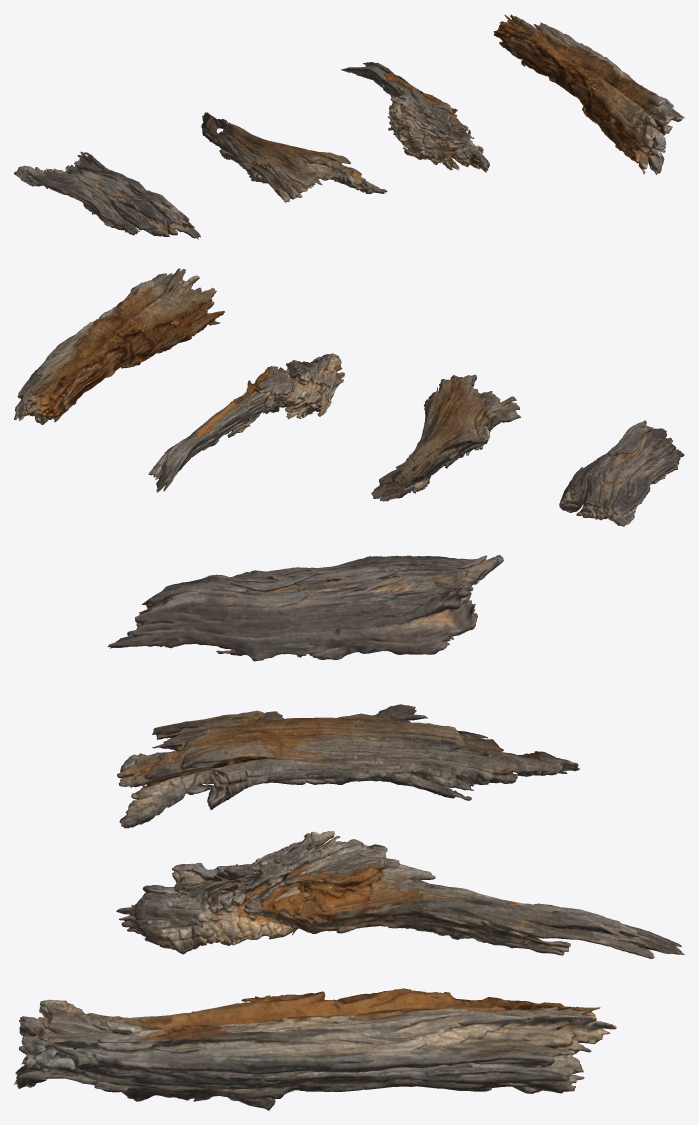
Rendered from bark_debris_01.glb.
The picture shows the model from 3 angles, top to bottom: view 1: azimuth 30°, elevation 25°; view 2: azimuth 150°, elevation 25°; view 3: azimuth 270°, elevation 25°; orthographic projection. The views are drawn at different scales.
Visible parts, largest first — view 1: bark_debris_01_d, bark_debris_01_a, bark_debris_01_b, bark_debris_01_c; view 2: bark_debris_01_d, bark_debris_01_b, bark_debris_01_c, bark_debris_01_a; view 3: bark_debris_01_d, bark_debris_01_c, bark_debris_01_a, bark_debris_01_b.
Part boxes in pixels (<box>): bark_debris_01_d: <box>493,14,684,174</box>; bark_debris_01_a: <box>14,151,200,239</box>; bark_debris_01_b: <box>201,112,387,202</box>; bark_debris_01_c: <box>341,62,489,172</box>; bark_debris_01_d: <box>14,268,224,424</box>; bark_debris_01_b: <box>371,374,520,501</box>; bark_debris_01_c: <box>148,353,345,492</box>; bark_debris_01_a: <box>559,420,684,526</box>; bark_debris_01_d: <box>14,988,616,1110</box>; bark_debris_01_c: <box>116,831,684,958</box>; bark_debris_01_a: <box>108,555,503,661</box>; bark_debris_01_b: <box>117,704,579,828</box>.
Bounding box in the file's own units: 1.21 × 0.1121 × 0.6745.
1 material, 1 textured.
